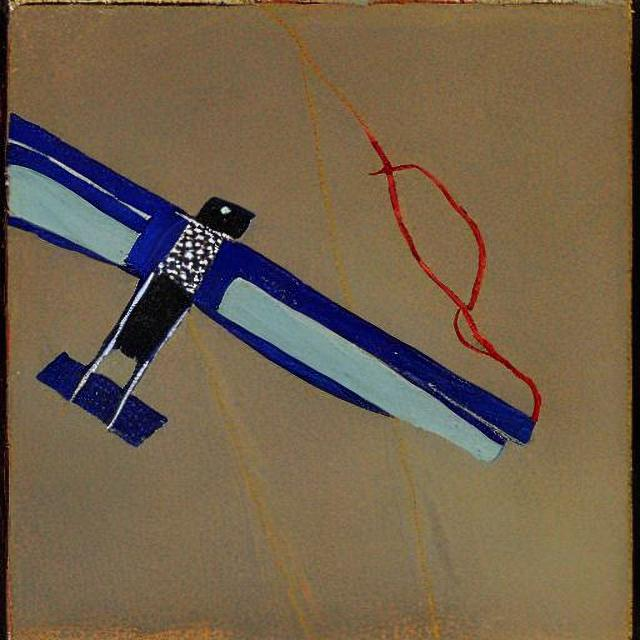floating object: (8, 129, 576, 455)
